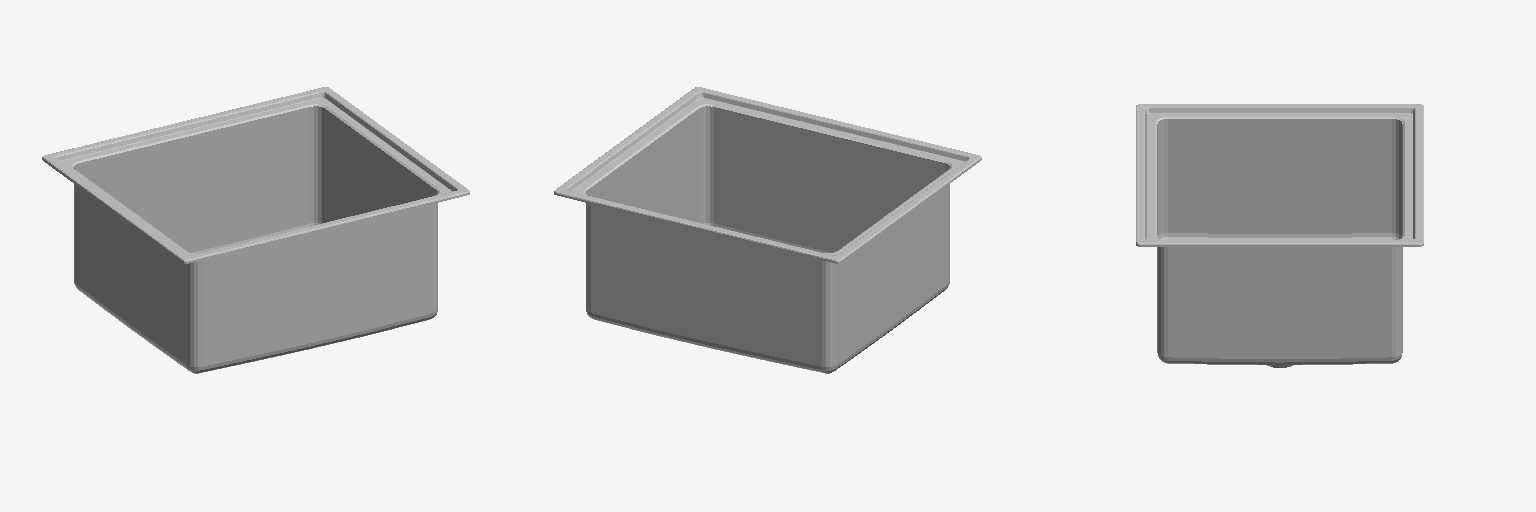
Rendered from kitchenBasin.obj.
3 renders of one model, left to right at view 1: azimuth 30°, elevation 25°; view 2: azimuth 150°, elevation 25°; view 3: azimuth 270°, elevation 25°, orthographic.
Parts seen in each view (by area): view 1: Clark_Pete_Evans_Single_Bowl; view 2: Clark_Pete_Evans_Single_Bowl; view 3: Clark_Pete_Evans_Single_Bowl.
Boxes of the visible parts, x1=… form: Clark_Pete_Evans_Single_Bowl: x1=42, y1=87, x2=469, y2=373; Clark_Pete_Evans_Single_Bowl: x1=554, y1=87, x2=981, y2=373; Clark_Pete_Evans_Single_Bowl: x1=1136, y1=104, x2=1423, y2=364.
Size of the model in its own units: 460 by 253 by 400.